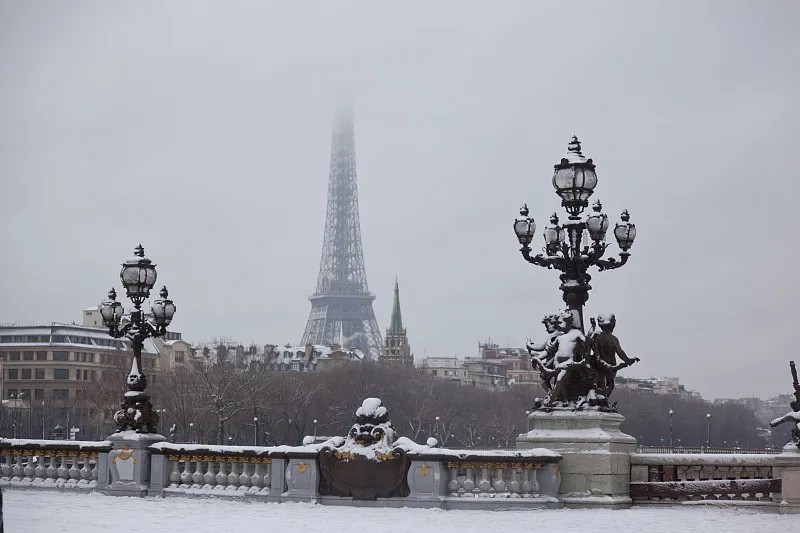Eiffel: (300, 69, 383, 359)
